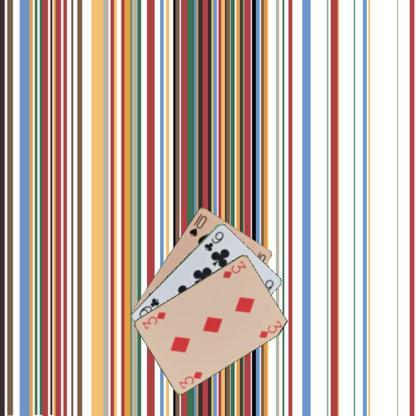10s: (186, 210, 208, 238)
3d: (176, 368, 204, 390), (220, 258, 247, 280)
9c: (202, 228, 226, 252)
